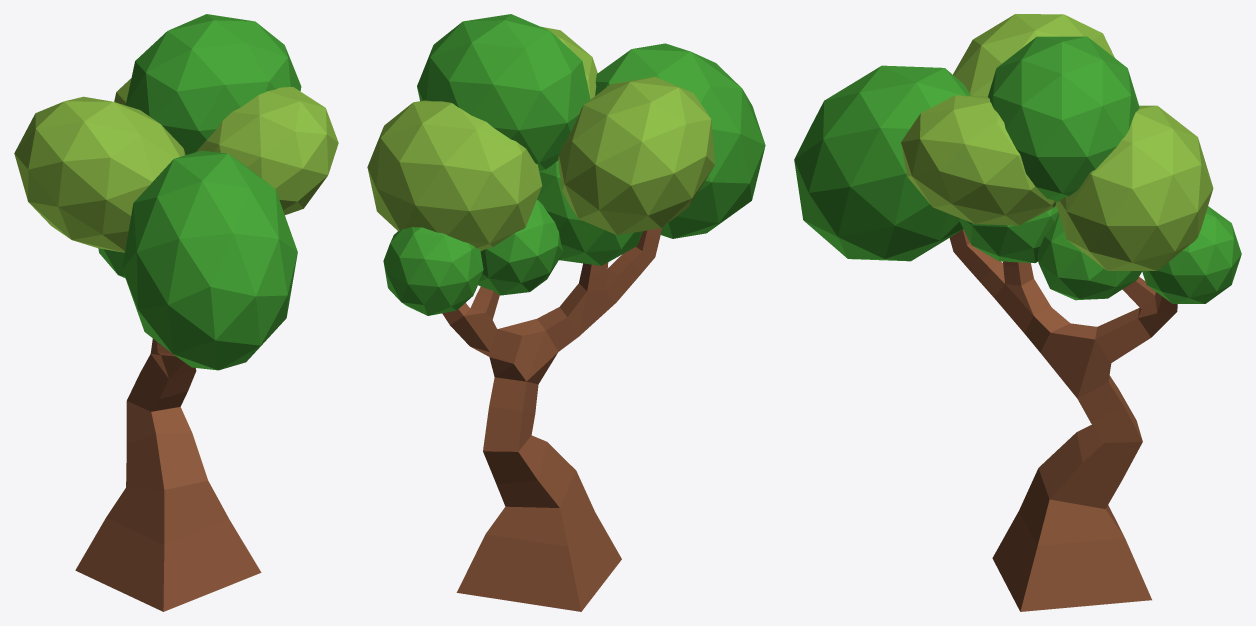
The picture shows the model from 3 angles, left to right: view 1: azimuth 30°, elevation 25°; view 2: azimuth 150°, elevation 25°; view 3: azimuth 270°, elevation 25°; orthographic projection. The views are drawn at different scales.
Parts seen in each view (by area): view 1: Icosphere.003, Cube, Icosphere.005, Icosphere.007, Icosphere.002; view 2: Cube, Icosphere.005, Icosphere.001, Icosphere.007, Icosphere.003, Icosphere, Icosphere.004, Icosphere.006, Icosphere.002; view 3: Cube, Icosphere.003, Icosphere.001, Icosphere.007, Icosphere.002, Icosphere, Icosphere.005, Icosphere.004, Icosphere.006.
Boxes of the visible parts, x1,y1,x2,y2 form: Icosphere.003: [122, 150, 297, 370]; Cube: [75, 338, 261, 611]; Icosphere.005: [14, 96, 185, 252]; Icosphere.007: [125, 14, 301, 154]; Icosphere.002: [196, 87, 338, 214]; Cube: [442, 228, 661, 611]; Icosphere.005: [558, 77, 714, 235]; Icosphere.001: [367, 100, 542, 250]; Icosphere.007: [417, 14, 590, 170]; Icosphere.003: [595, 43, 765, 238]; Icosphere: [383, 227, 483, 315]; Icosphere.004: [478, 200, 563, 295]; Icosphere.006: [537, 160, 643, 265]; Icosphere.002: [541, 26, 597, 99]; Cube: [949, 229, 1177, 611]; Icosphere.003: [794, 65, 971, 261]; Icosphere.001: [1055, 105, 1213, 270]; Icosphere.007: [988, 36, 1139, 201]; Icosphere.002: [901, 95, 1055, 225]; Icosphere: [1142, 206, 1241, 303]; Icosphere.005: [953, 14, 1114, 96]; Icosphere.004: [1038, 214, 1141, 300]; Icosphere.006: [959, 205, 1058, 263].
Bounding box in the file's own units: 1.73 × 3.16 × 2.3.
